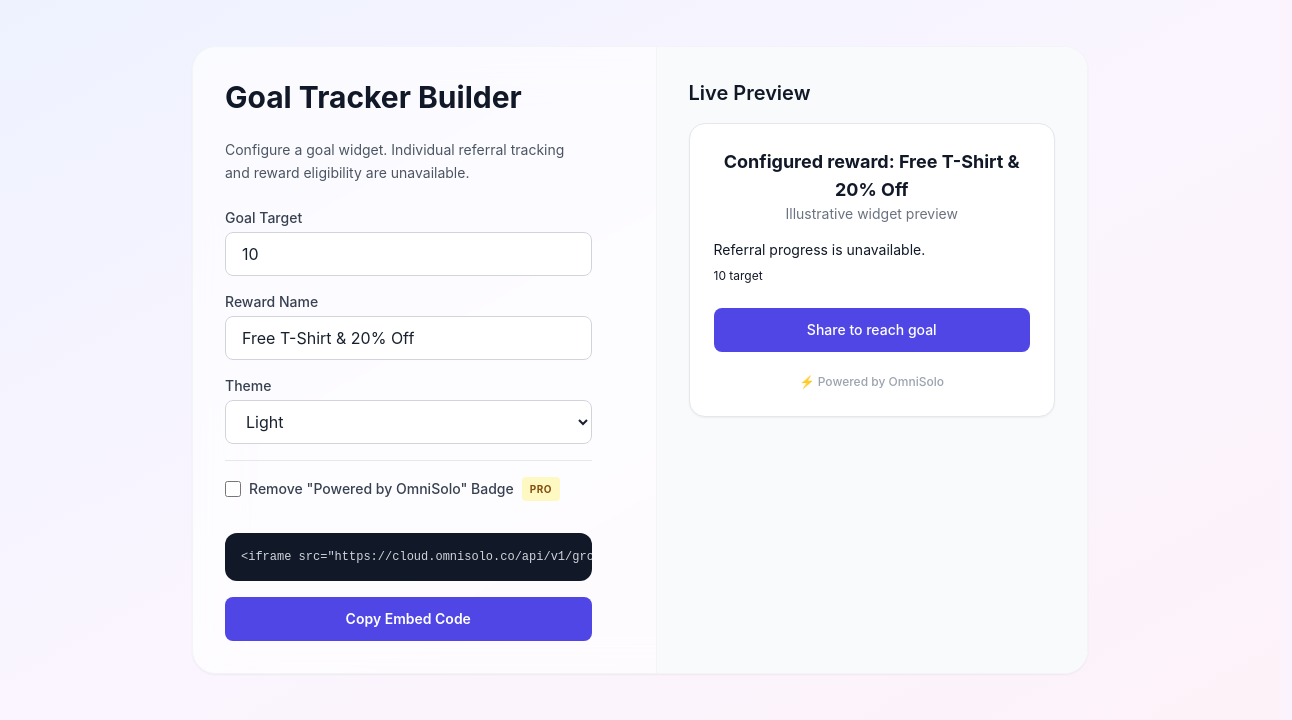
Test: ViralGoalTrackerPage › updates goal target input
Type "25" into the number field showing "10". click: (408,254)
box: x1=225 y1=232 x2=592 y2=276
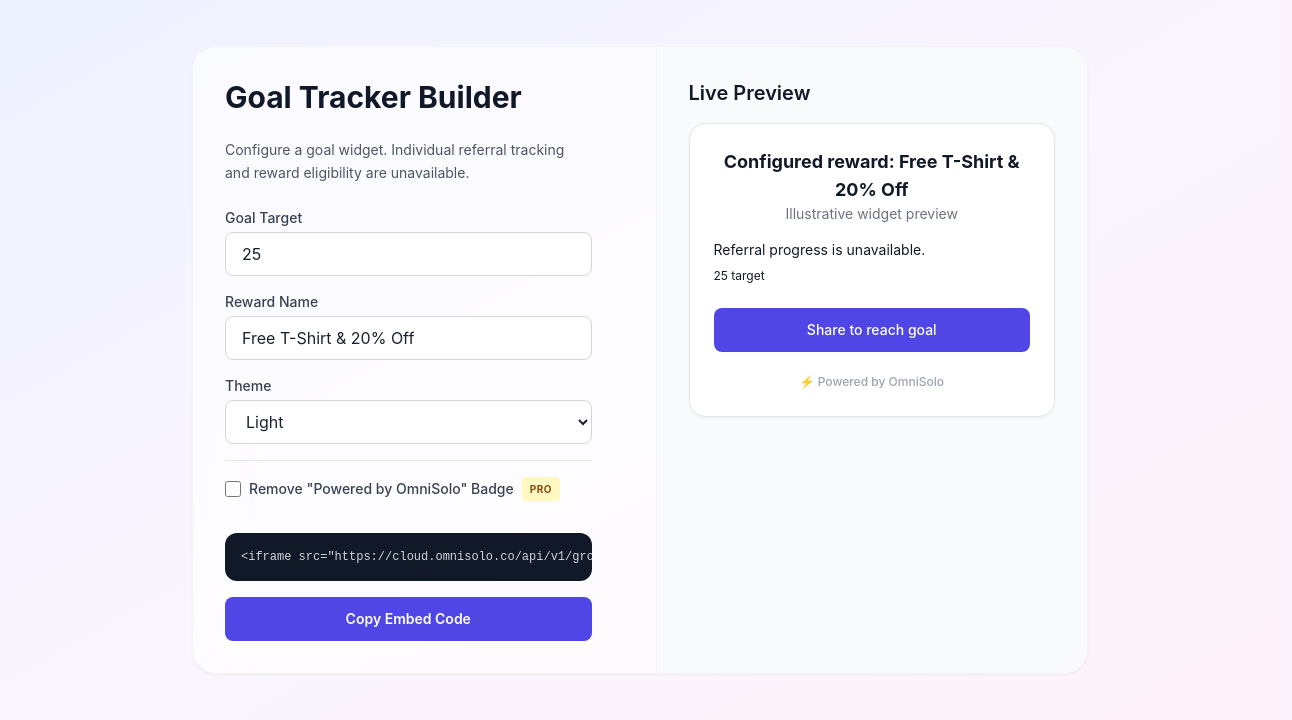
Now the text "25 target" is shown, box x1=714 y1=268 x2=765 y2=283
